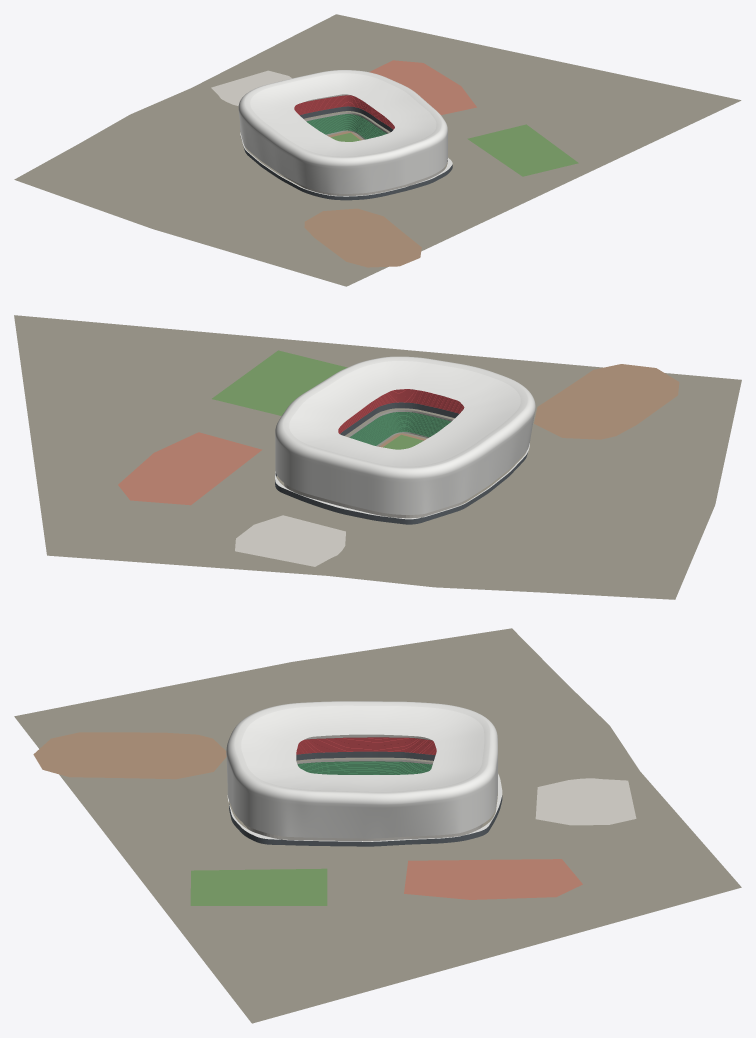
Rendered from blockout.glb.
3 renders of one model, top to bottom at view 1: azimuth 30°, elevation 25°; view 2: azimuth 150°, elevation 25°; view 3: azimuth 270°, elevation 25°, orthographic. The views are drawn at different scales.
Visible parts, largest first — view 1: site_pad, facade, roof, training_field_sw, training_pitch_se, warmup_track, tier_lower, north_plaza, tier_middle, plinth, vip_glass; view 2: site_pad, facade, roof, training_field_sw, warmup_track, training_pitch_se, north_plaza, tier_lower, tier_middle, plinth, vip_glass, back_wall (+1 smaller); view 3: site_pad, facade, roof, training_field_sw, warmup_track, training_pitch_se, north_plaza, tier_middle, tier_lower, plinth, vip_glass, back_wall.
Part boxes in pixels (x1,y1,x2,y2): site_pad: (14, 14, 741, 286); facade: (238, 70, 447, 193); roof: (250, 73, 436, 156); training_field_sw: (304, 208, 421, 267); training_pitch_se: (467, 124, 578, 176); warmup_track: (369, 60, 476, 114); tier_lower: (306, 114, 386, 139); north_plaza: (211, 70, 291, 105); tier_middle: (294, 95, 394, 129); plinth: (240, 136, 452, 200); vip_glass: (300, 106, 392, 131); site_pad: (14, 315, 741, 599); facade: (275, 356, 535, 514); roof: (289, 361, 520, 466); training_field_sw: (534, 364, 679, 439); warmup_track: (118, 432, 262, 505); training_pitch_se: (212, 350, 347, 415); north_plaza: (235, 515, 345, 566); tier_lower: (349, 412, 451, 445); tier_middle: (338, 389, 464, 433); plinth: (275, 452, 527, 524); vip_glass: (340, 402, 459, 435); back_wall: (284, 408, 479, 518); site_pad: (14, 628, 741, 1023); facade: (226, 701, 497, 838); roof: (241, 705, 484, 791); training_field_sw: (33, 732, 226, 779); warmup_track: (404, 859, 582, 899); training_pitch_se: (190, 868, 327, 905); north_plaza: (535, 778, 636, 825); tier_middle: (296, 737, 436, 754); tier_lower: (297, 761, 432, 774); plinth: (229, 795, 502, 846); vip_glass: (296, 751, 435, 760); back_wall: (243, 757, 483, 841).
Bounding box in the file's own units: 863 × 54 × 671.
